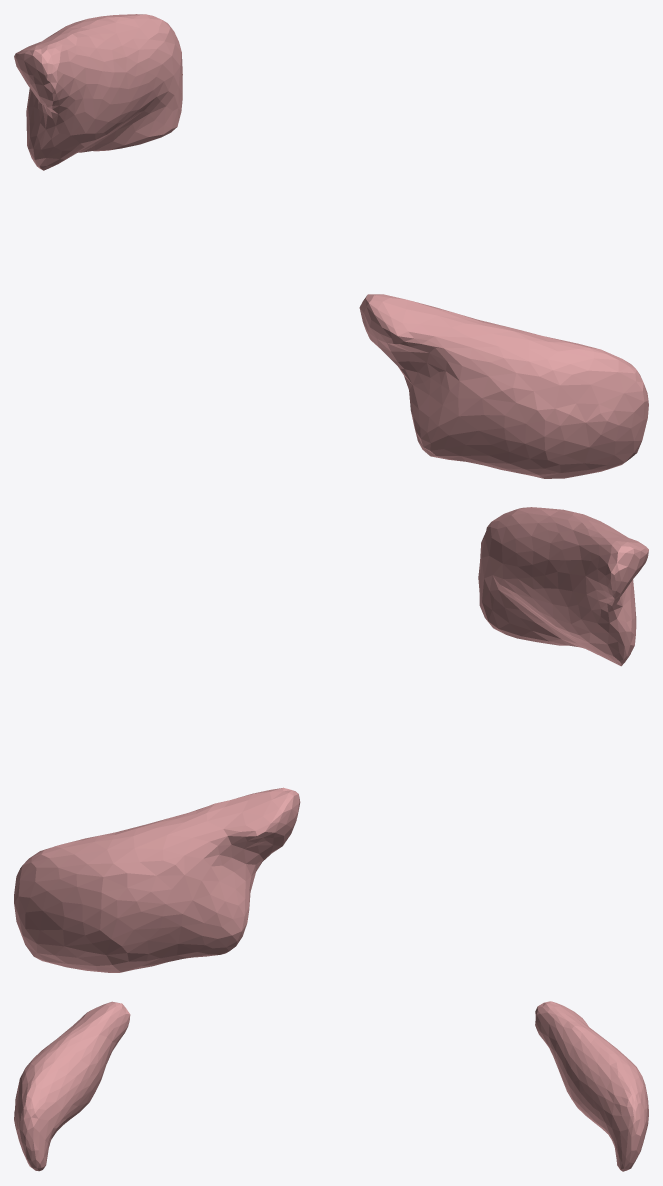
3 views of the same model, one above another, from view 1: azimuth 30°, elevation 25°; view 2: azimuth 150°, elevation 25°; view 3: azimuth 270°, elevation 25° (orthographic). The views are drawn at different scales.
Parts seen in each view (by area): view 1: 475.obj; view 2: 475.obj; view 3: 475.obj.
Part boxes in pixels (x1=…): 475.obj: x1=14, y1=14, x2=648, y2=478; 475.obj: x1=14, y1=507, x2=648, y2=972; 475.obj: x1=14, y1=1001, x2=648, y2=1171.
Size of the model in its own units: 1324 by 1021 by 5197.
